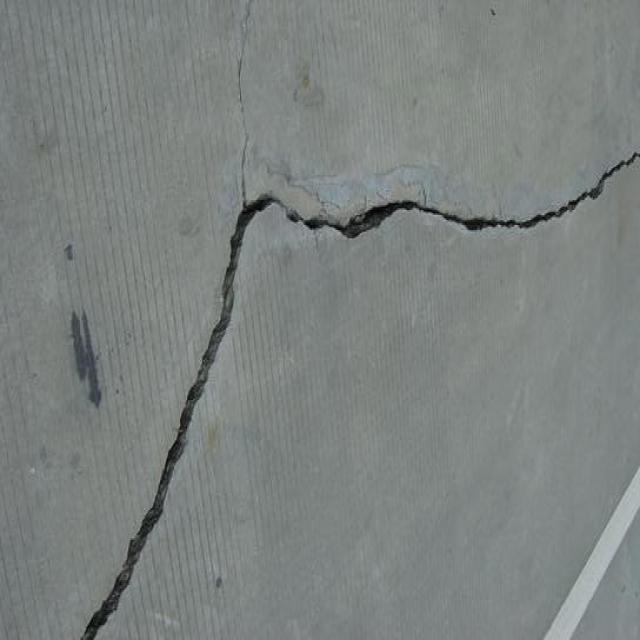Diagonal: (89, 298, 240, 640)
Longitudinal: (224, 5, 274, 98)
Radial: (191, 111, 319, 279)
Transverse: (336, 144, 640, 244)
